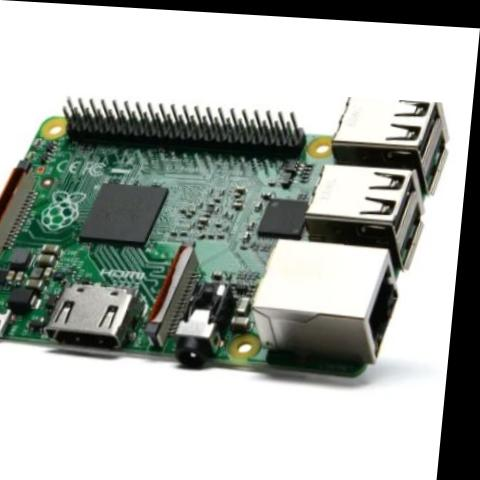Raspberry-Pi-2-Model-B: (0, 76, 462, 400)
